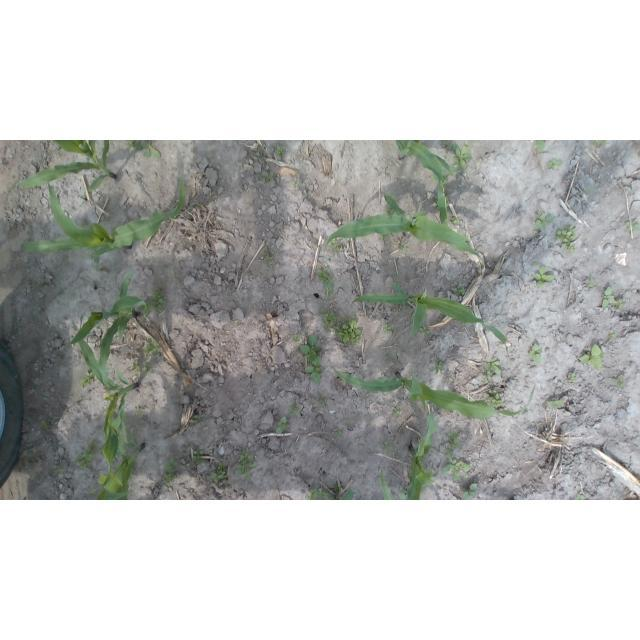Maize: (21, 181, 186, 263), (352, 283, 509, 355), (324, 192, 485, 261), (333, 368, 535, 418), (64, 270, 147, 390), (75, 338, 140, 486), (89, 400, 147, 500), (19, 140, 118, 192), (396, 141, 455, 224), (408, 410, 436, 500), (380, 468, 407, 500)
Weeds: (442, 447, 470, 481), (333, 316, 361, 345), (235, 450, 257, 480), (580, 344, 605, 370), (299, 336, 321, 365), (75, 440, 98, 467), (556, 225, 577, 253), (305, 356, 325, 384), (454, 144, 473, 168), (534, 266, 554, 287), (534, 212, 554, 230), (212, 463, 229, 484), (485, 389, 504, 407), (152, 289, 166, 313), (165, 459, 178, 484), (307, 488, 334, 500), (142, 141, 161, 158), (529, 343, 544, 363), (276, 416, 292, 434), (602, 287, 615, 309), (144, 338, 160, 355), (462, 484, 479, 500), (448, 428, 461, 448), (340, 485, 357, 500), (323, 312, 337, 330), (263, 248, 275, 269), (486, 359, 502, 374), (318, 267, 333, 281), (193, 450, 208, 464), (547, 398, 566, 409), (322, 284, 334, 301), (81, 371, 94, 386), (431, 174, 449, 184), (546, 159, 562, 170), (126, 141, 142, 152), (452, 283, 466, 295), (625, 220, 640, 231), (288, 404, 300, 417), (613, 375, 625, 388), (482, 371, 494, 383), (380, 440, 392, 452), (434, 361, 445, 374), (395, 240, 407, 251), (615, 298, 626, 310), (442, 141, 454, 152), (330, 240, 340, 253), (590, 140, 606, 148), (263, 172, 274, 183), (317, 393, 327, 405), (139, 302, 149, 314), (276, 145, 286, 156), (586, 277, 596, 288), (537, 141, 547, 152), (142, 363, 151, 375), (567, 372, 577, 382), (449, 167, 460, 176), (131, 362, 140, 372), (419, 326, 430, 334), (392, 405, 400, 416), (331, 428, 342, 436), (41, 421, 51, 429), (609, 330, 616, 341), (576, 492, 584, 501), (193, 416, 201, 425), (385, 324, 392, 334), (135, 406, 142, 416), (35, 283, 45, 290), (293, 334, 301, 342), (380, 235, 390, 240), (173, 275, 180, 282), (387, 208, 394, 215), (293, 178, 299, 186), (57, 467, 63, 474), (451, 217, 457, 224), (335, 484, 340, 492), (447, 378, 454, 383), (82, 219, 87, 226), (161, 264, 169, 268), (584, 188, 590, 193), (358, 438, 364, 443), (347, 424, 354, 428), (281, 224, 287, 228), (532, 262, 537, 266), (82, 196, 86, 201), (447, 196, 450, 202), (435, 196, 438, 200)
